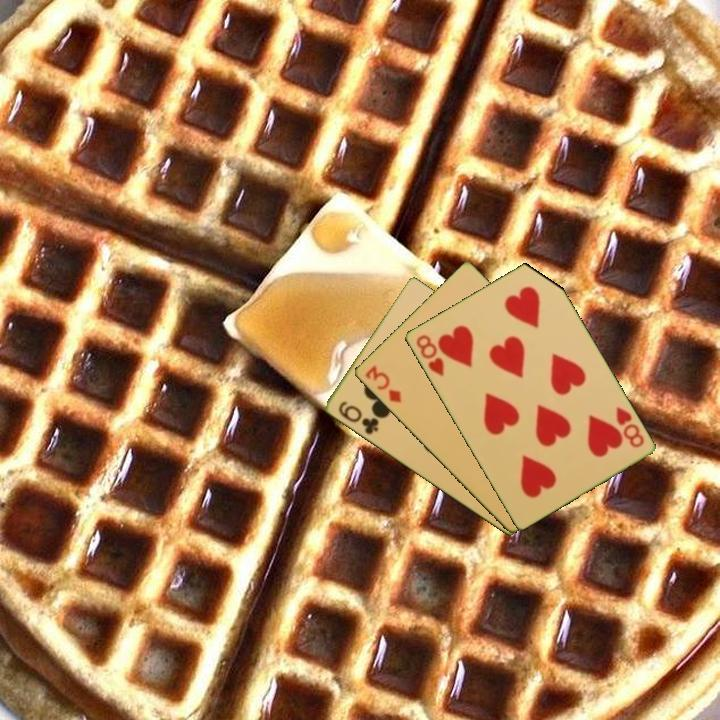3d: (361, 362, 404, 406)
6c: (334, 397, 381, 438)
8h: (412, 331, 447, 379), (612, 403, 647, 451)
